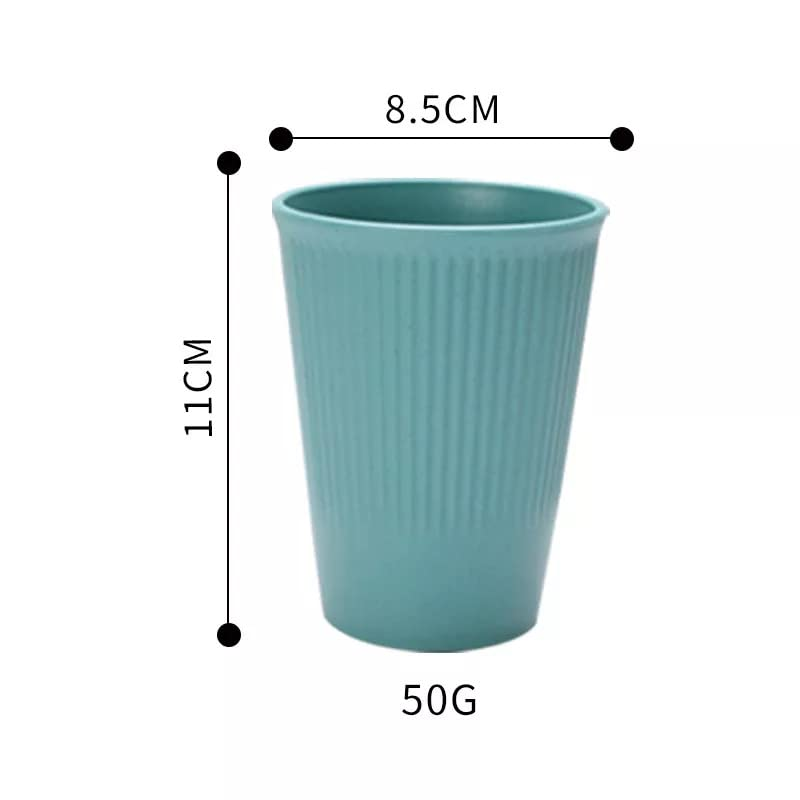50G: (402, 684, 476, 715)
8.5CM: (386, 95, 497, 124)
WOTT: (183, 340, 212, 436)
